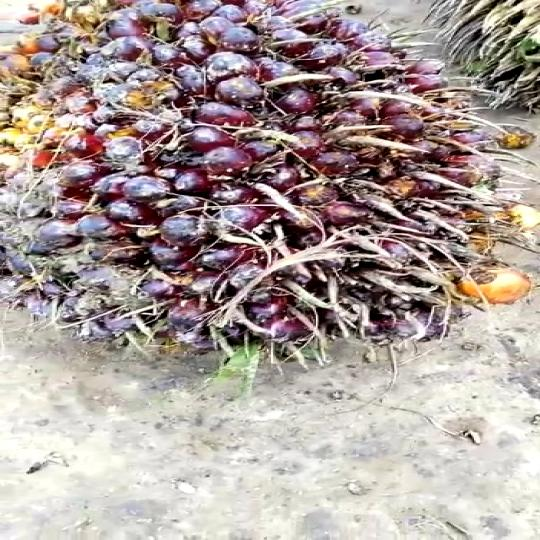kurang masak: (0, 0, 538, 357)
